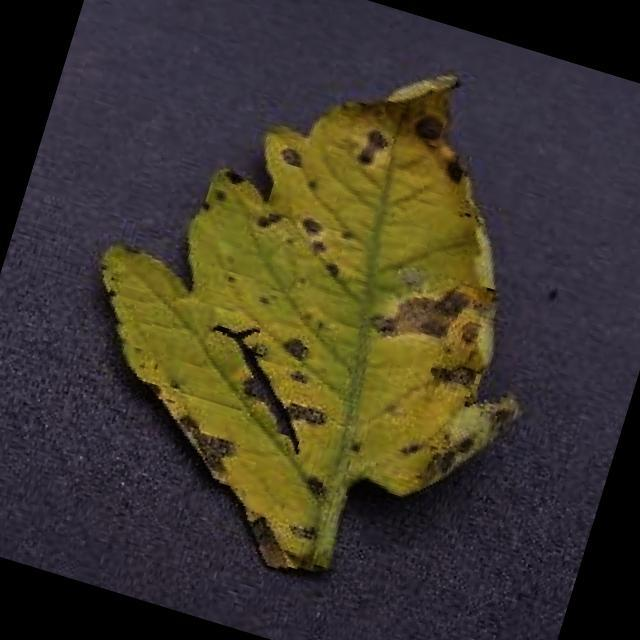Tomato Septoria spot leaf: (31, 0, 605, 623)
